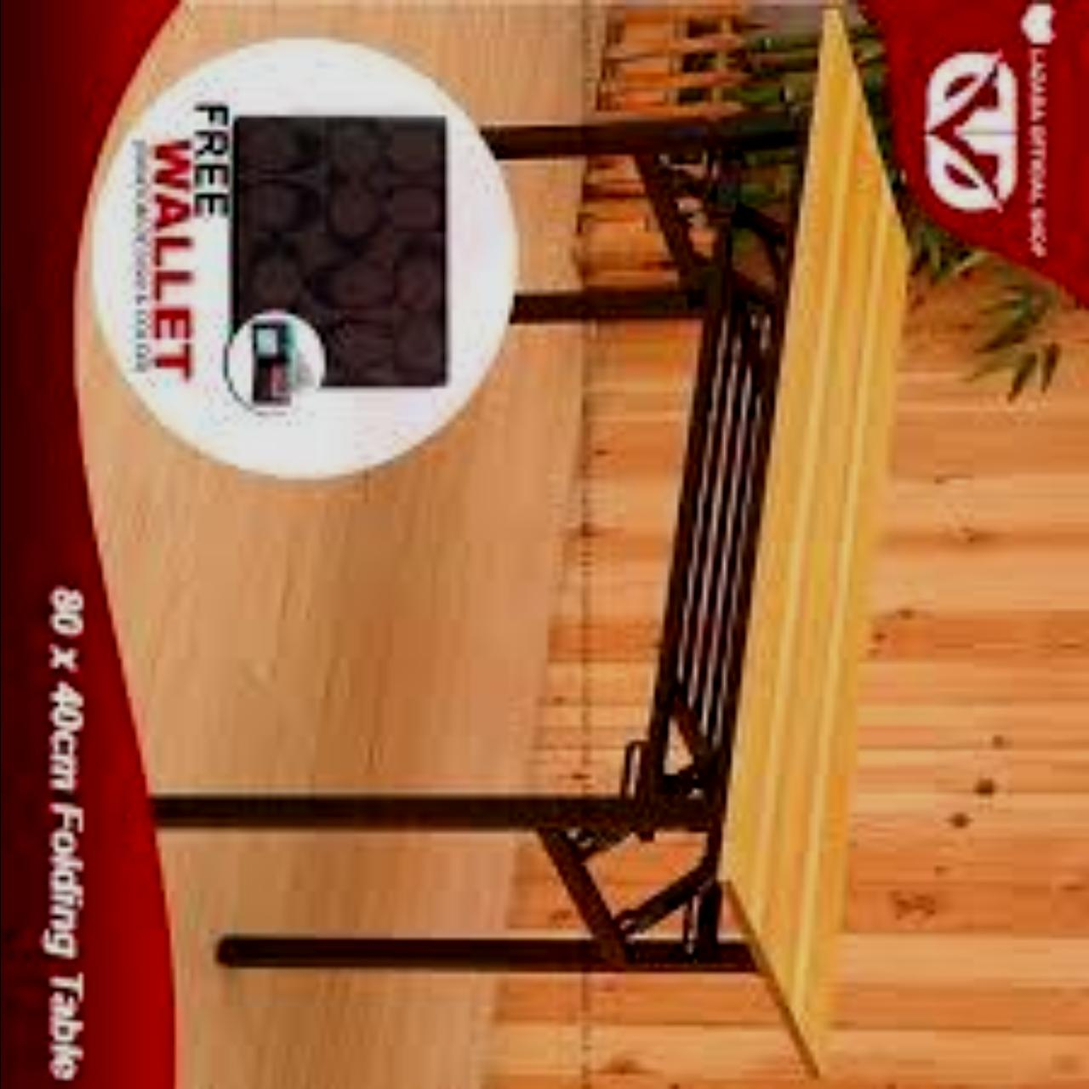wallet: (208, 112, 464, 426)
